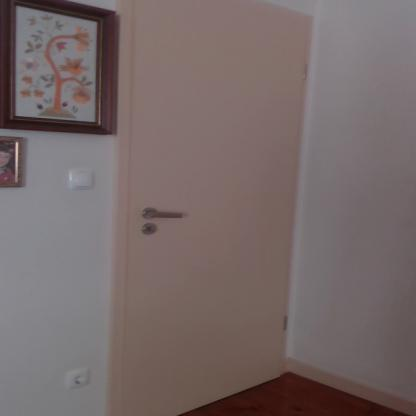door: (132, 0, 289, 415)
hinged: (301, 61, 308, 82), (282, 315, 290, 332)
lever: (146, 210, 186, 221)
